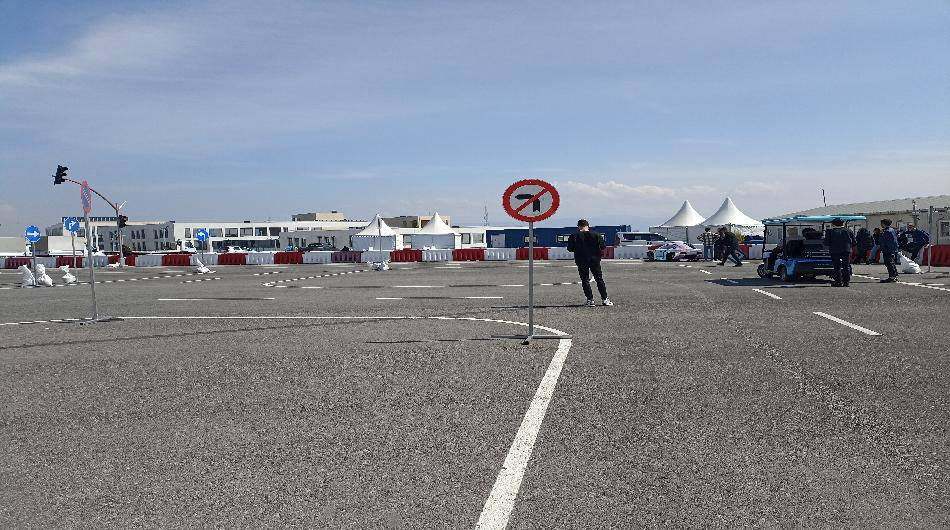park_yapilmaz_1: (78, 183, 99, 214)
sola_donulmez: (502, 179, 562, 225)
